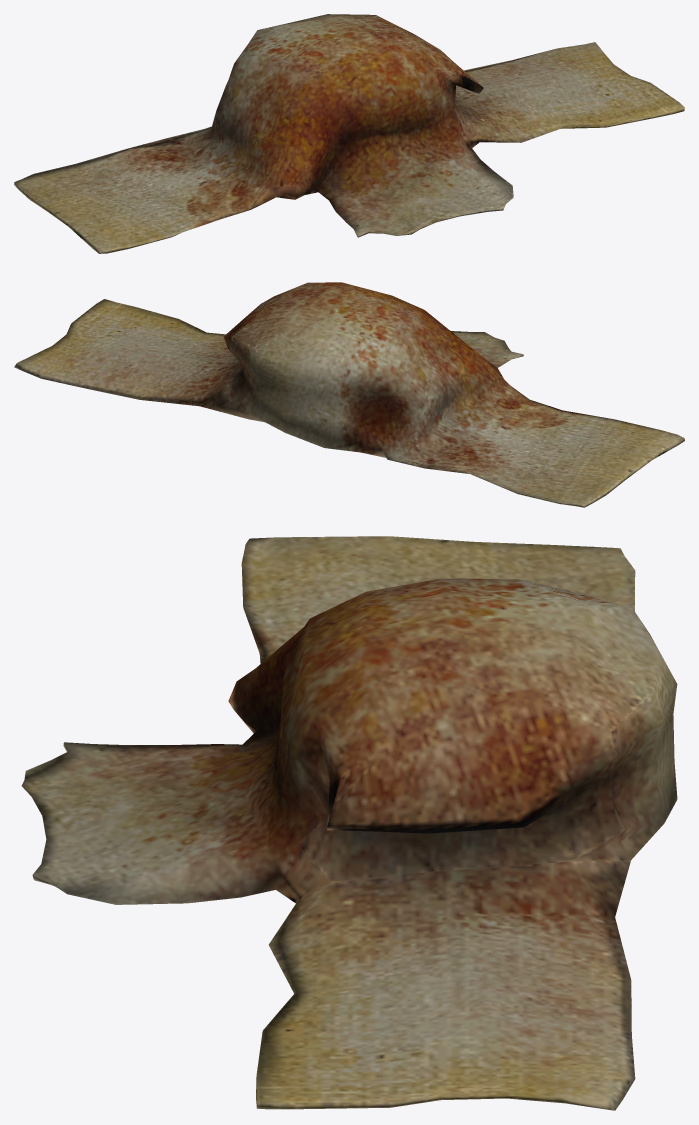
The model's file is bandage_used 02.DAE.
The picture shows the model from 3 angles, top to bottom: view 1: azimuth 30°, elevation 25°; view 2: azimuth 150°, elevation 25°; view 3: azimuth 270°, elevation 25°; orthographic projection. The views are drawn at different scales.
Parts seen in each view (by area): view 1: bandage_used 02; view 2: bandage_used 02; view 3: bandage_used 02.
Part boxes in pixels (x1,y1,x2,y2): bandage_used 02: [14, 14, 684, 253]; bandage_used 02: [14, 282, 684, 507]; bandage_used 02: [21, 536, 677, 1110].
Size of the model in its own units: 9.76 by 1.74 by 4.77.
